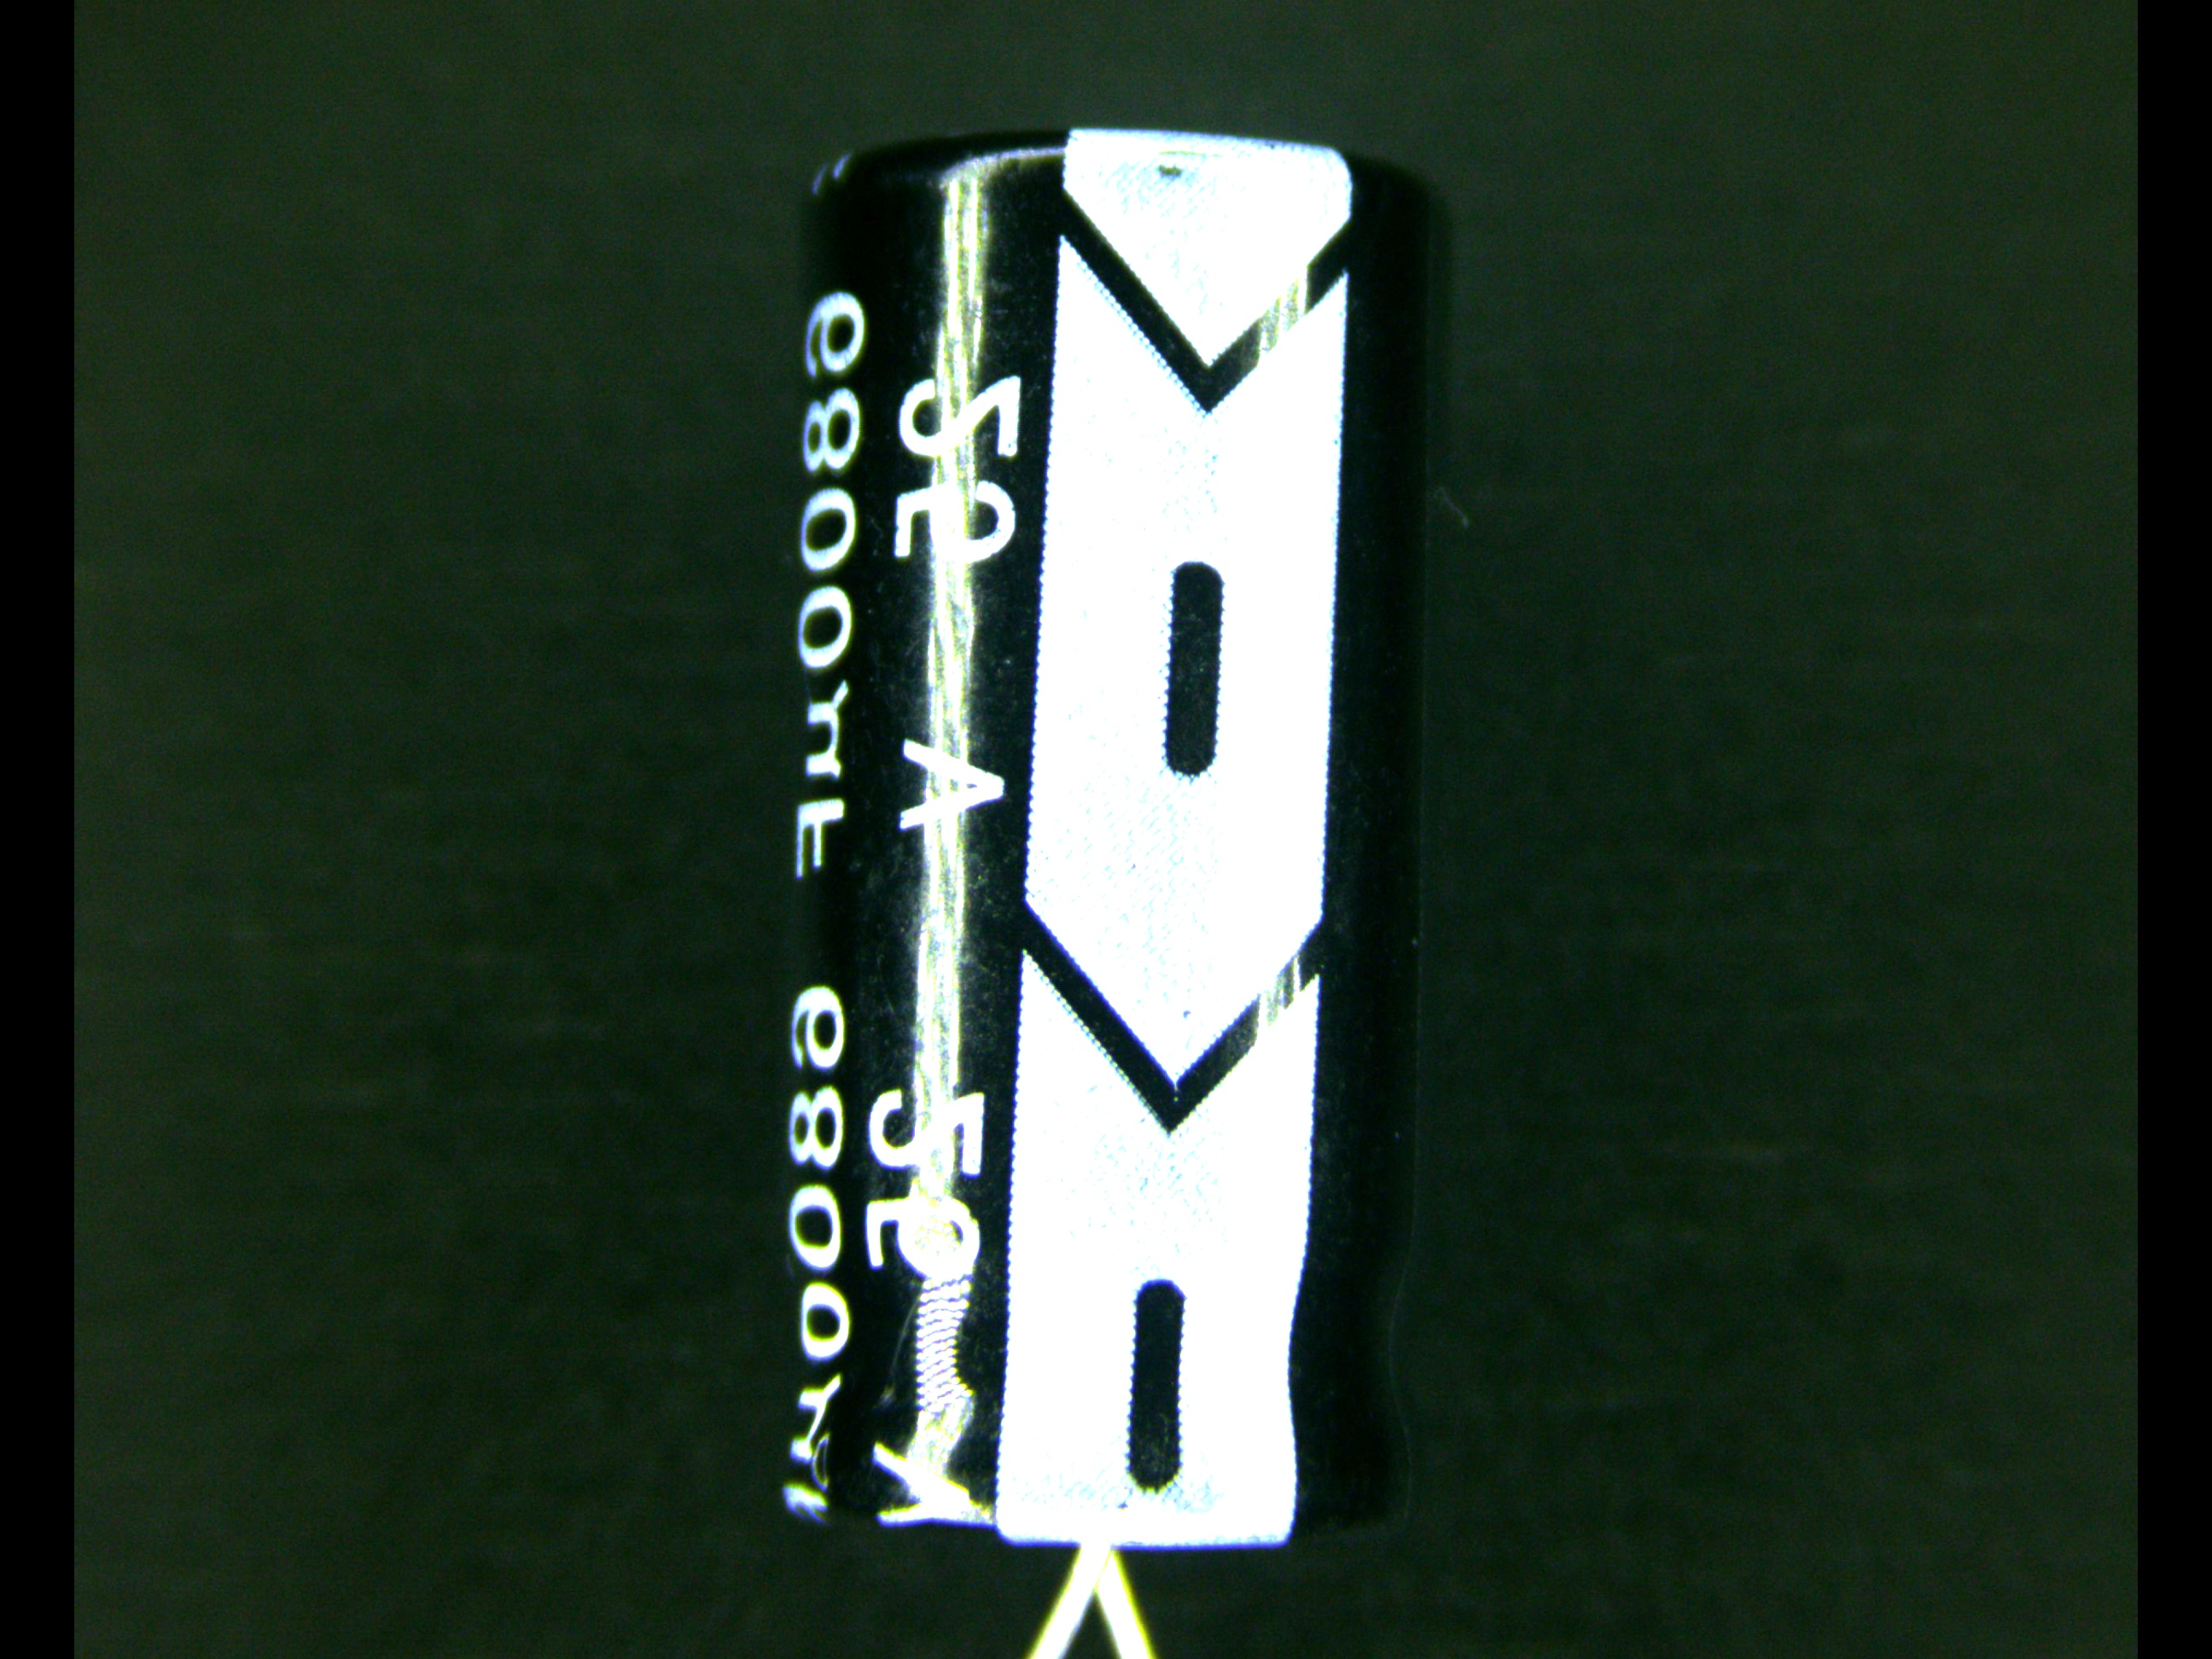c3: (770, 127, 1440, 1626)
